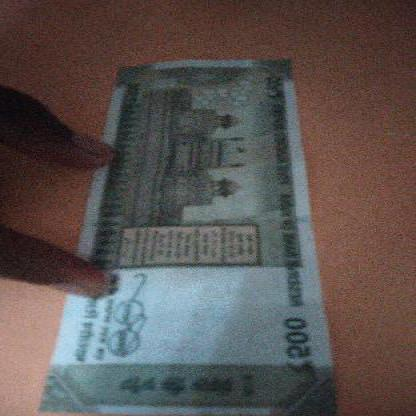New500Back: (61, 57, 315, 412)
